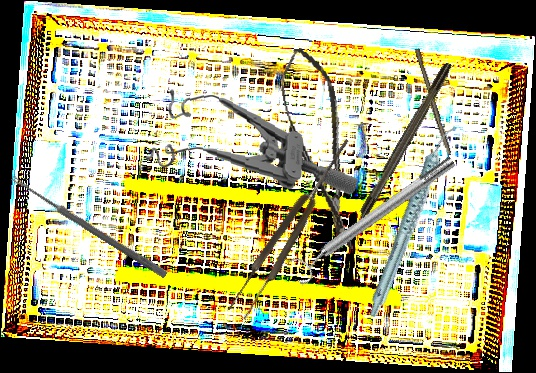Fixation Ring: (284, 148, 463, 288)
Handpiece: (332, 122, 494, 321)
Hook Surgical: (340, 61, 455, 248)
Micro Scissor: (274, 43, 365, 257)
Scalpel Handle: (411, 47, 454, 157)
Speculum: (141, 87, 365, 196)
Surgical Spoon: (9, 174, 169, 279)
Tissue Forceps: (224, 133, 360, 322)
